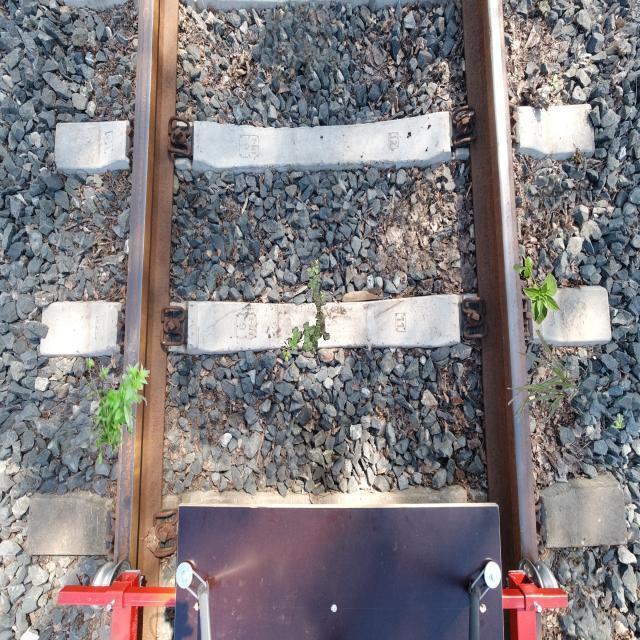Plant: (85, 356, 150, 464), (508, 330, 581, 423), (281, 258, 329, 362), (513, 254, 561, 325), (612, 413, 626, 428)
